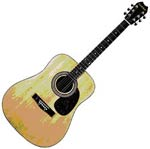guitar: (3, 1, 150, 148)
